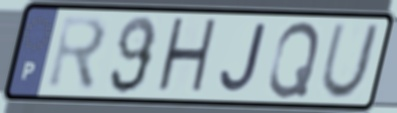9: (107, 14, 159, 97)
H: (152, 15, 221, 99)
J: (216, 21, 269, 96)
Q: (266, 18, 323, 100)
R: (44, 13, 110, 94)
U: (317, 21, 383, 102)
